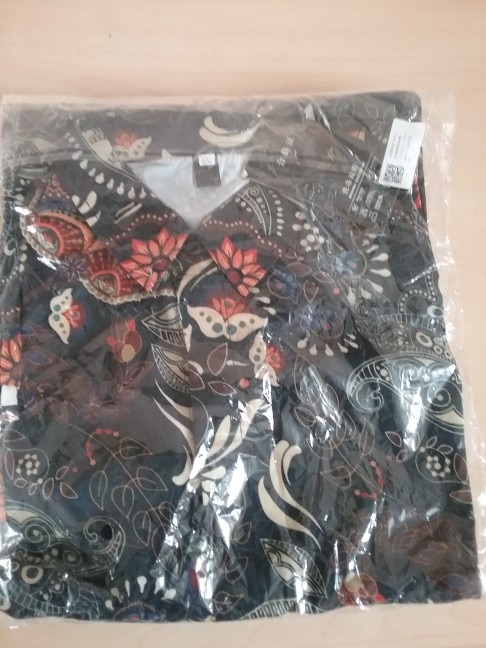shirts: (27, 117, 440, 591)
